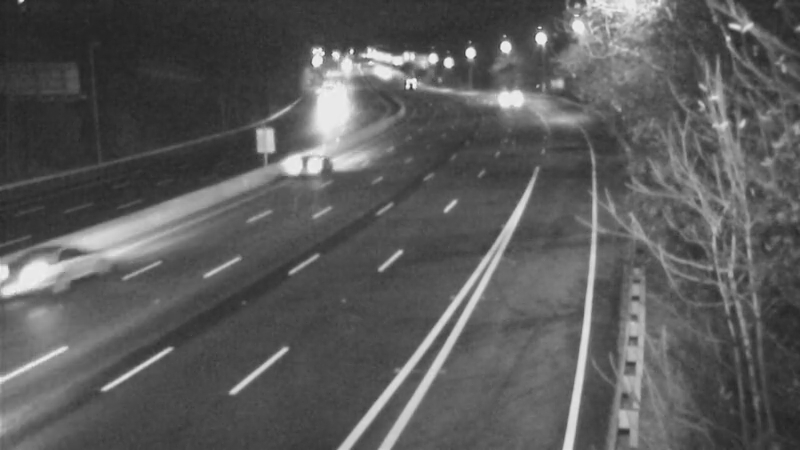vehicle: (273, 121, 353, 201), (7, 237, 87, 317), (383, 62, 433, 112), (483, 77, 533, 127)
